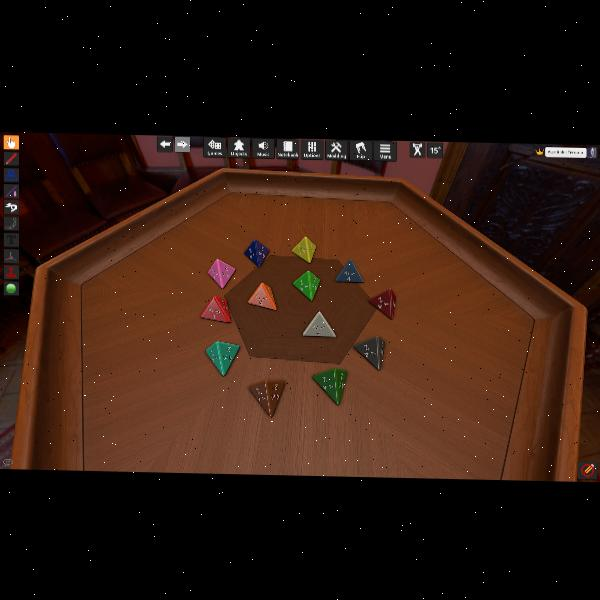d4: (248, 379, 286, 417), (312, 367, 346, 405), (205, 340, 240, 374), (353, 335, 384, 370), (200, 295, 231, 323), (302, 310, 335, 336), (368, 287, 394, 320), (292, 270, 320, 300), (208, 259, 236, 289), (248, 282, 276, 310), (335, 258, 363, 283), (244, 239, 268, 268), (292, 236, 316, 264)
